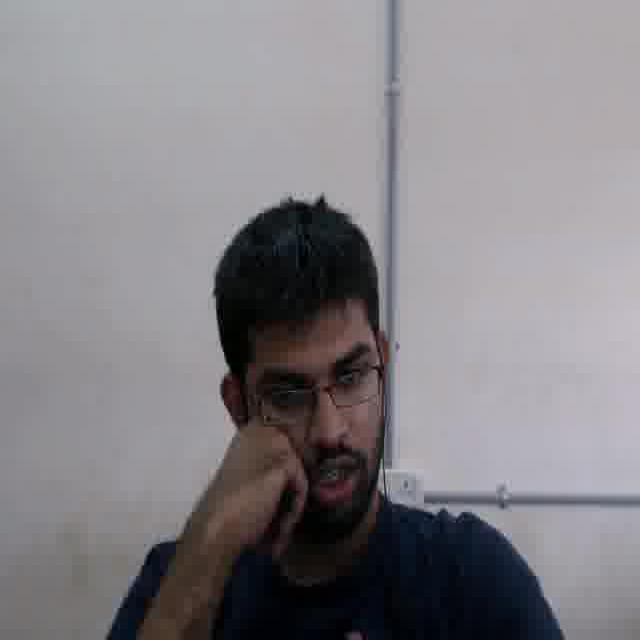Boredom: (243, 306, 379, 522)
